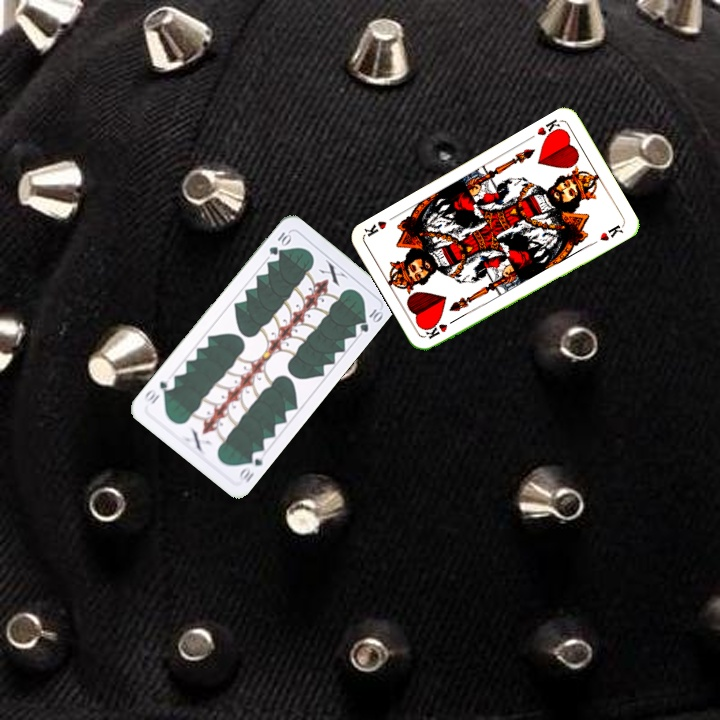G10: (234, 446, 268, 485), (265, 228, 294, 258)
HK: (421, 314, 460, 342), (533, 115, 566, 142)
